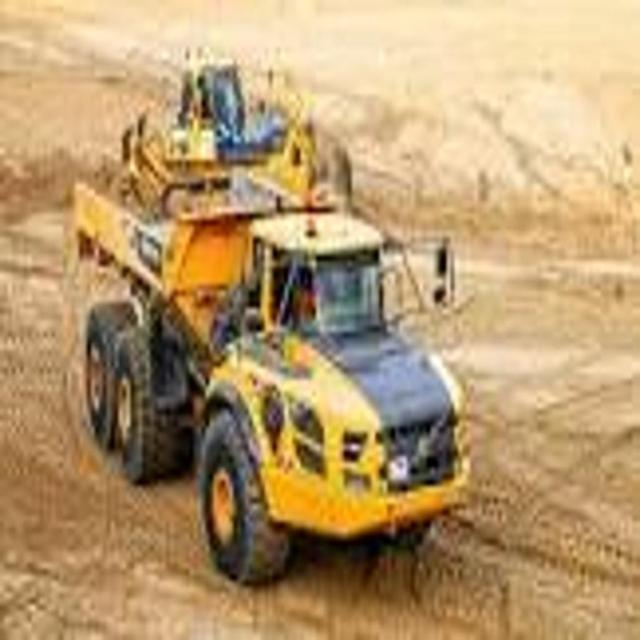dump_truck: (54, 143, 481, 584)
